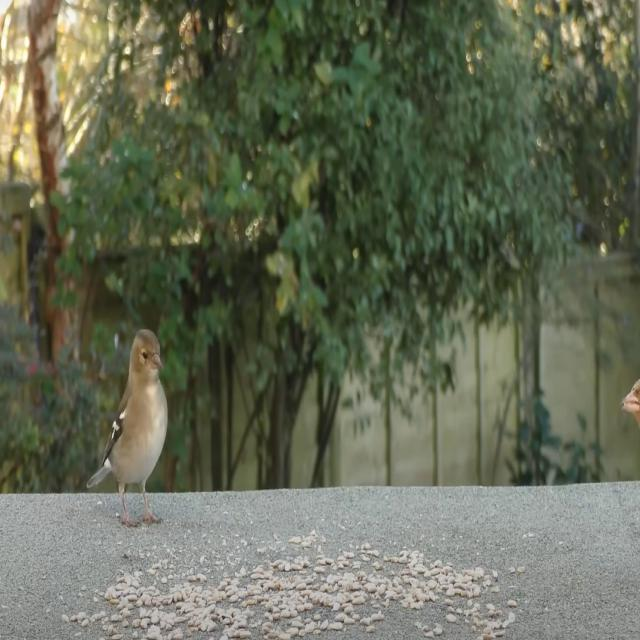beak: (623, 382, 640, 422), (152, 350, 164, 374)
bird: (86, 324, 172, 531), (622, 363, 640, 534)
